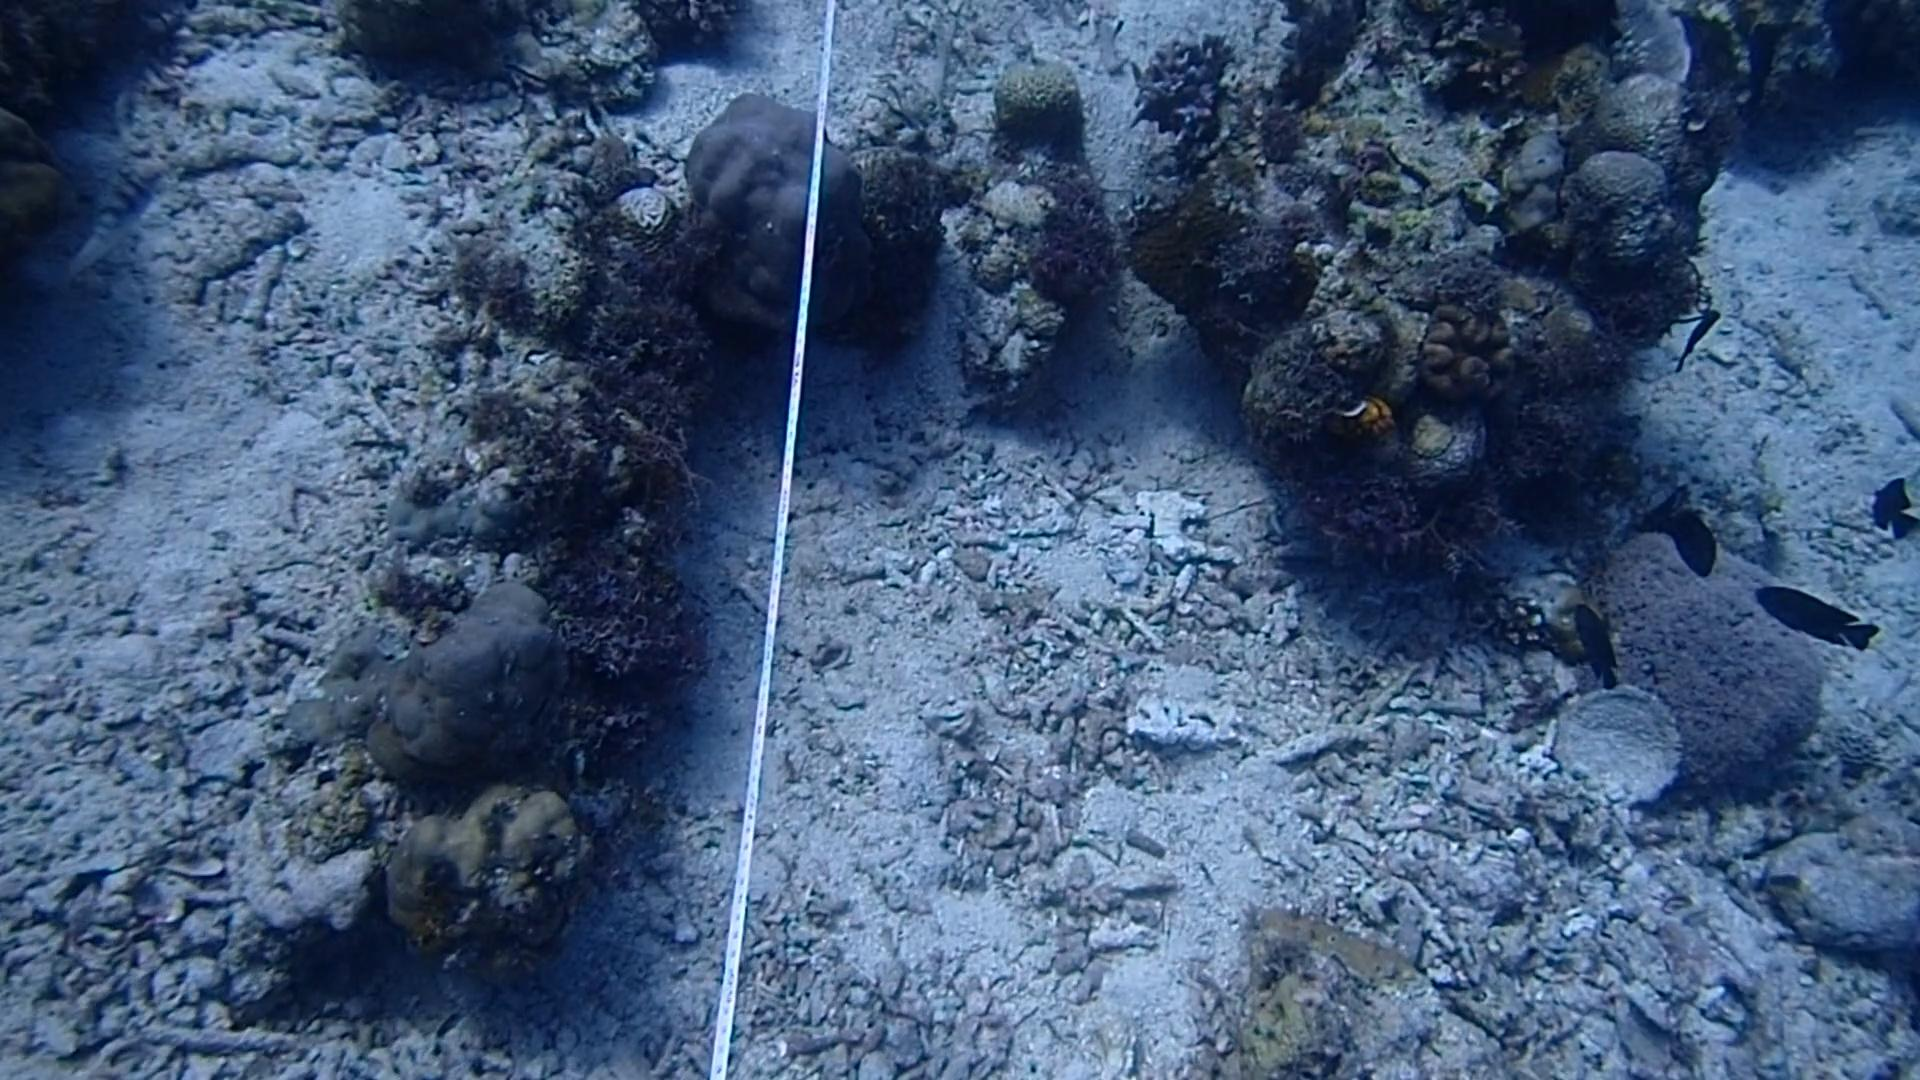Dark Fish: (1747, 564, 1878, 666), (1553, 597, 1640, 694), (1642, 500, 1735, 582), (1731, 4, 1793, 99), (1664, 302, 1735, 373), (1862, 468, 1920, 545)
Light Fish w Back Stripes: (58, 152, 173, 276)
